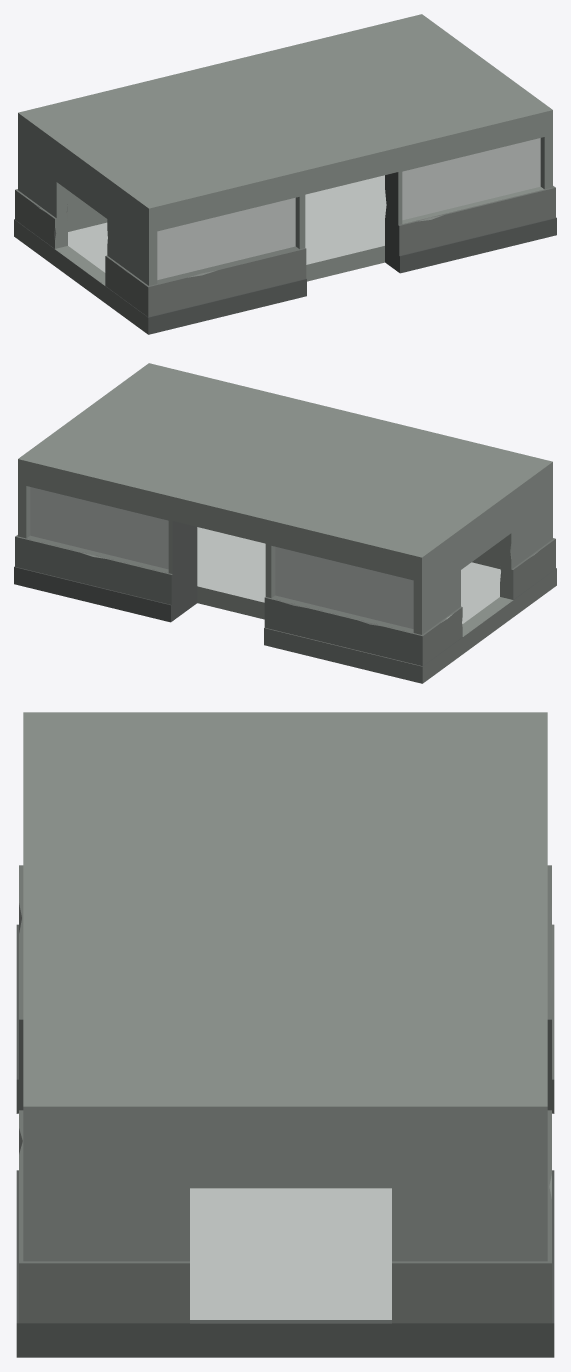
File: SM_Env_Base_10.fbx
The picture shows the model from 3 angles, top to bottom: view 1: azimuth 30°, elevation 25°; view 2: azimuth 150°, elevation 25°; view 3: azimuth 270°, elevation 25°; orthographic projection. The views are drawn at different scales.
Visible parts, largest first — view 1: SM_Env_Base_10; view 2: SM_Env_Base_10; view 3: SM_Env_Base_10.
Boxes of the visible parts, bbox=[...] form: SM_Env_Base_10: bbox=[14, 14, 556, 334]; SM_Env_Base_10: bbox=[14, 363, 556, 683]; SM_Env_Base_10: bbox=[16, 712, 554, 1357].
Size of the model in its own units: 1565 by 456 by 892.
Materials: 1 (1 with a texture image).
